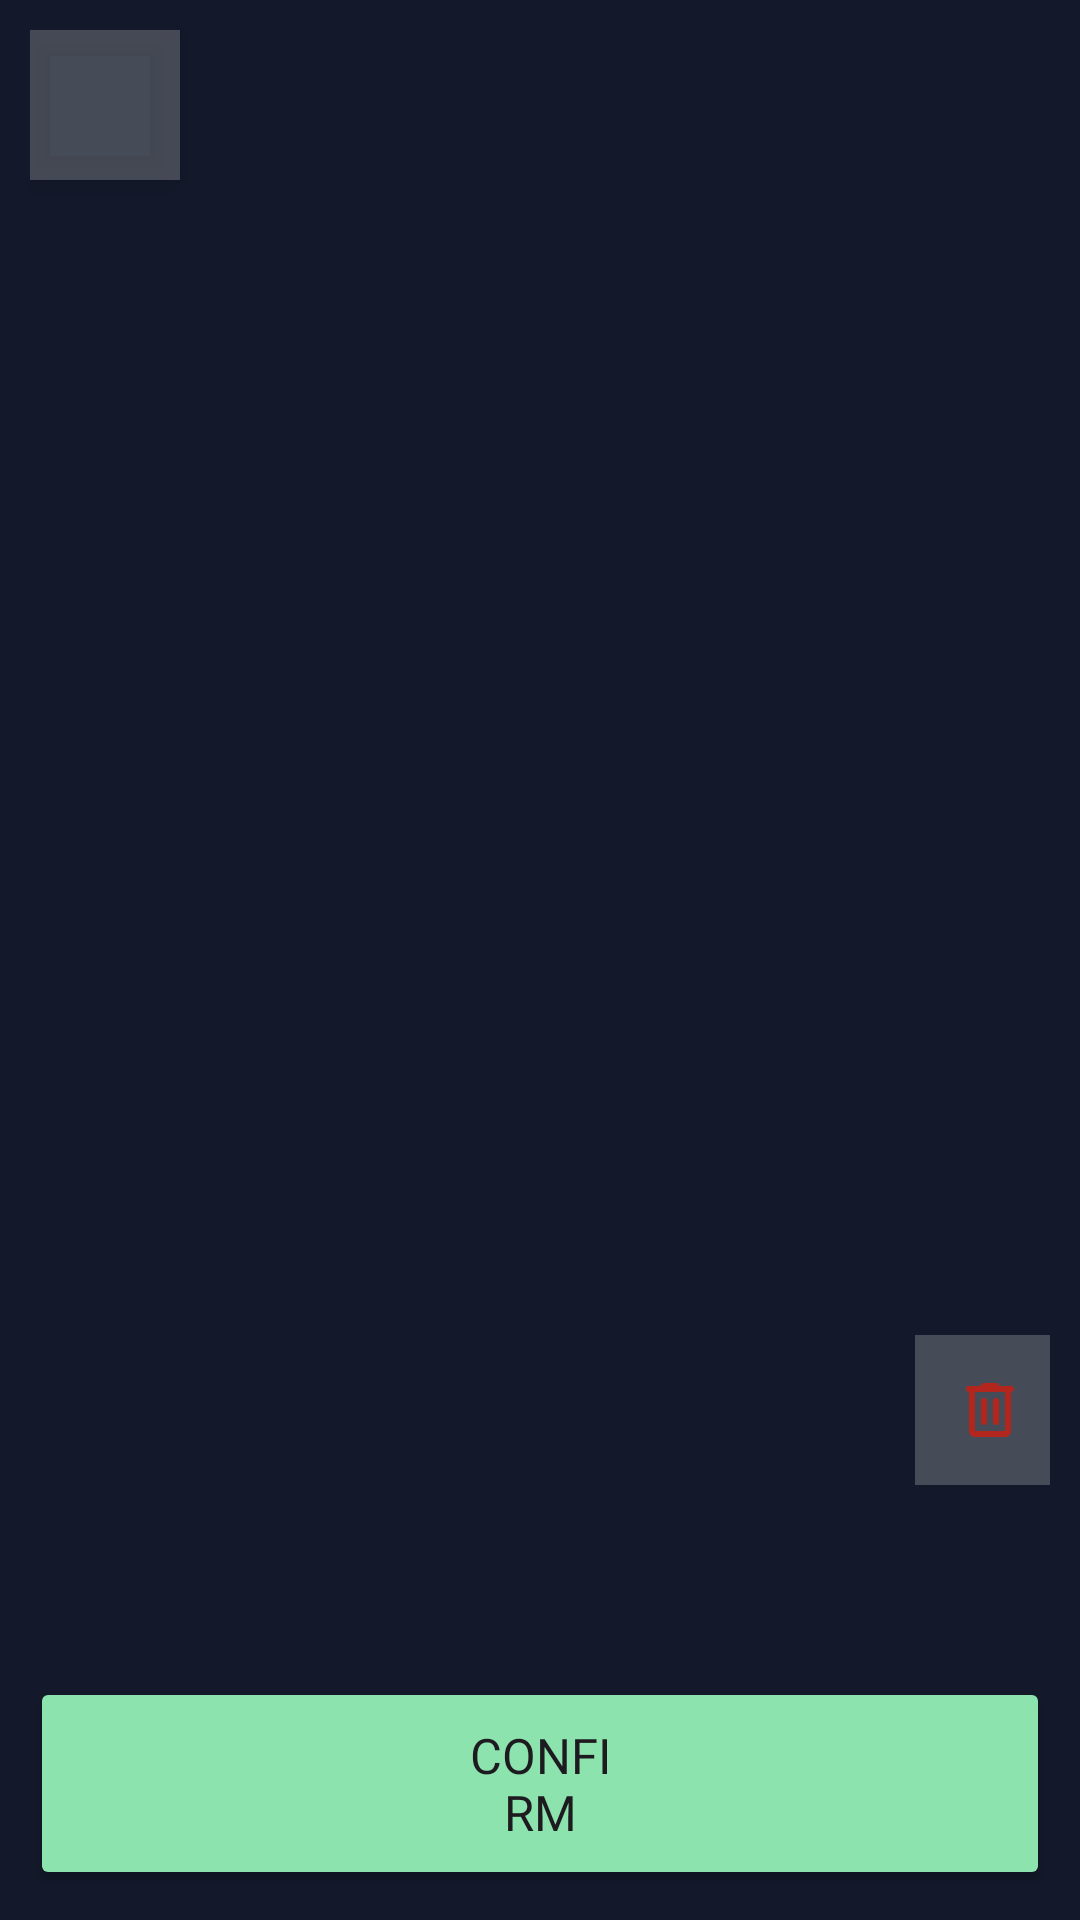

Icons on this 1080*1920 Android screen, each with the point to tap as (x,y):
Delete profile picture: (982,1410)
